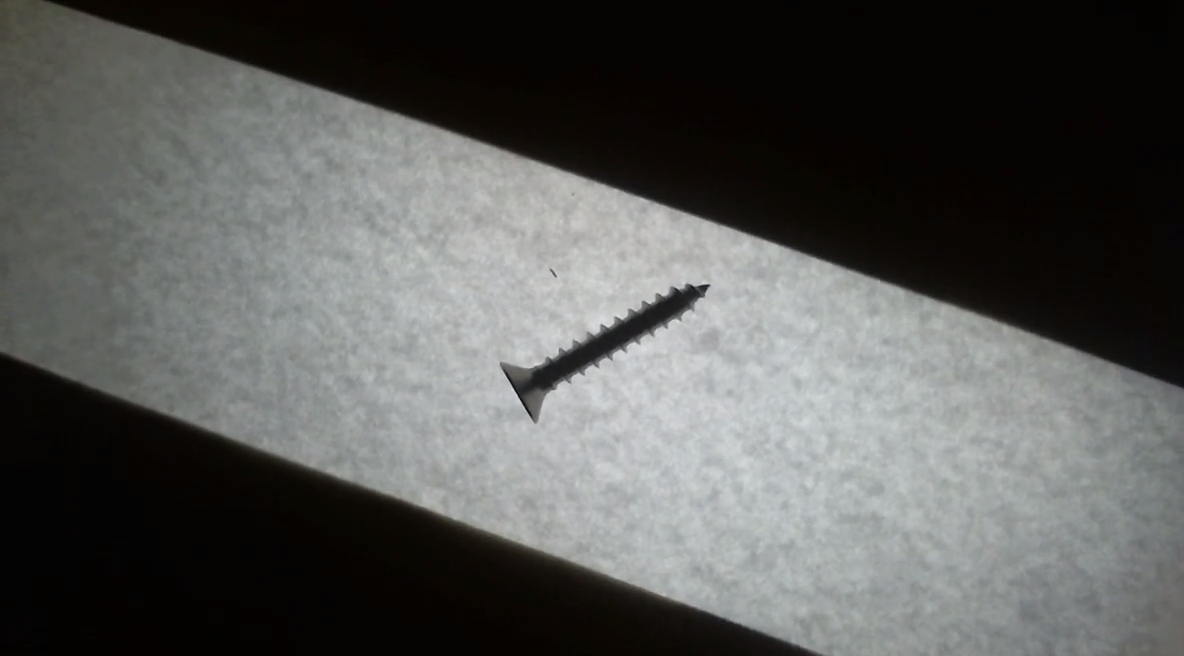S001: (492, 252, 729, 443)
